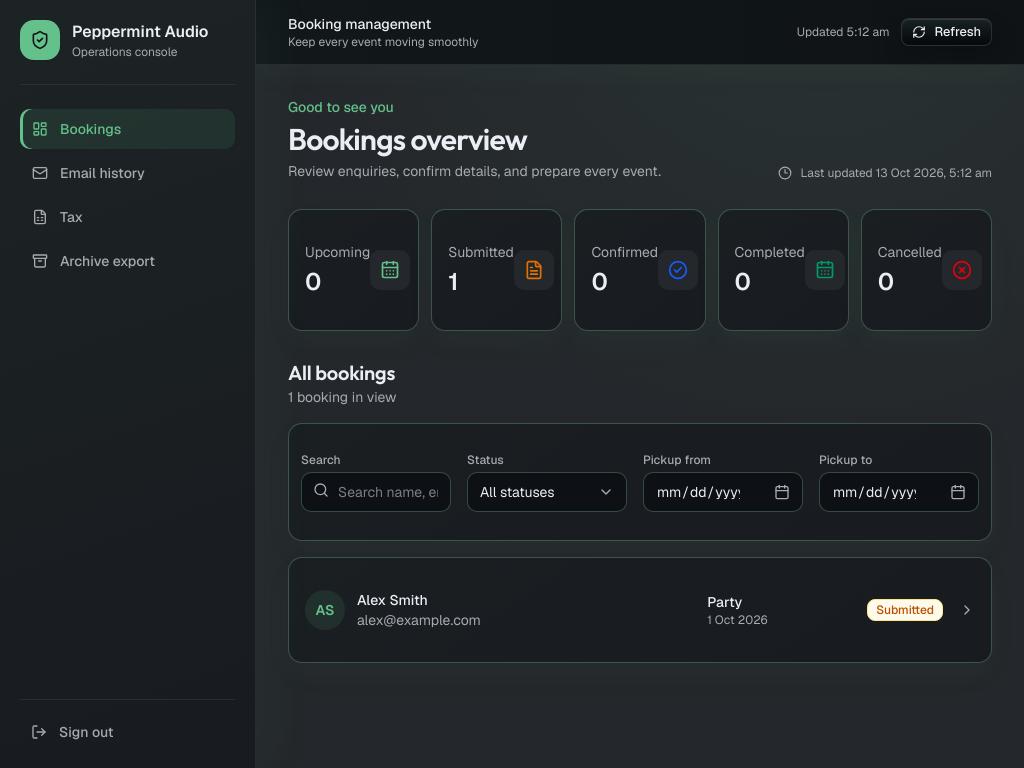
AdminConsole › searches email history by booking and opens the selected booking history
Expected: the text "Alex Smith" is shown, [357,591,428,609]
Click the link "Email history".
click(88, 173)  # box [32,164,145,182]
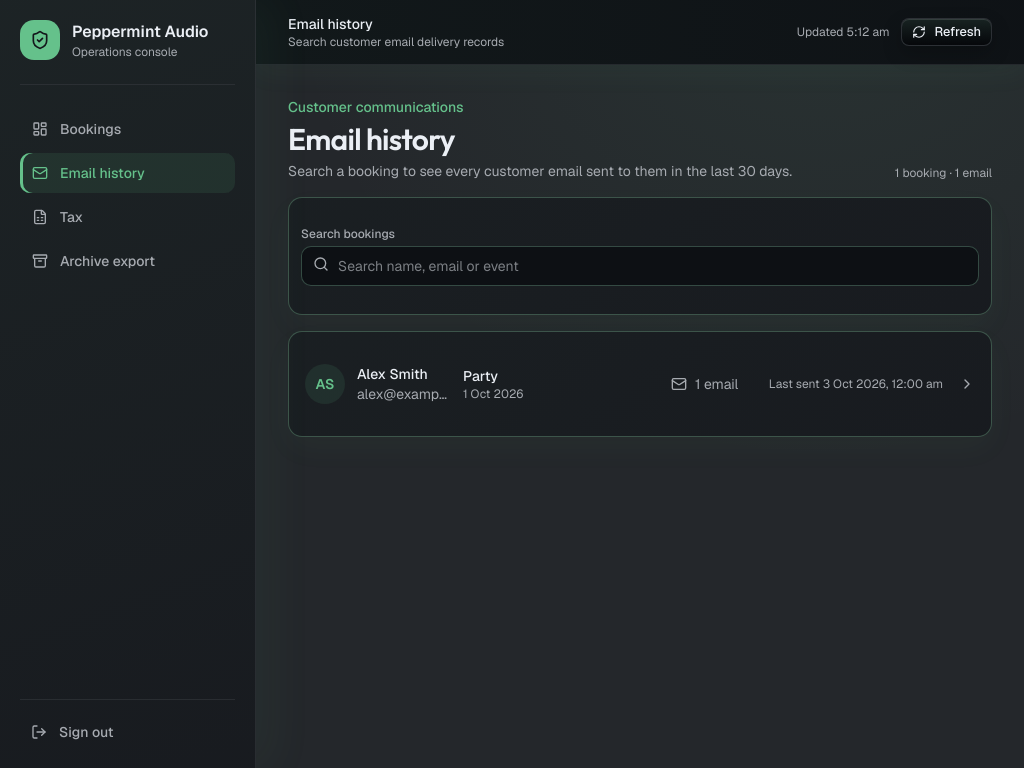
Now the heading "Email history" is shown, box [288,120,455,158]
Now the text "1 email" is shown, box [695,374,738,394]
Type "Alex" into the field named "Search email history".
click(640, 266); type("Alex")  # box [301,246,979,286]
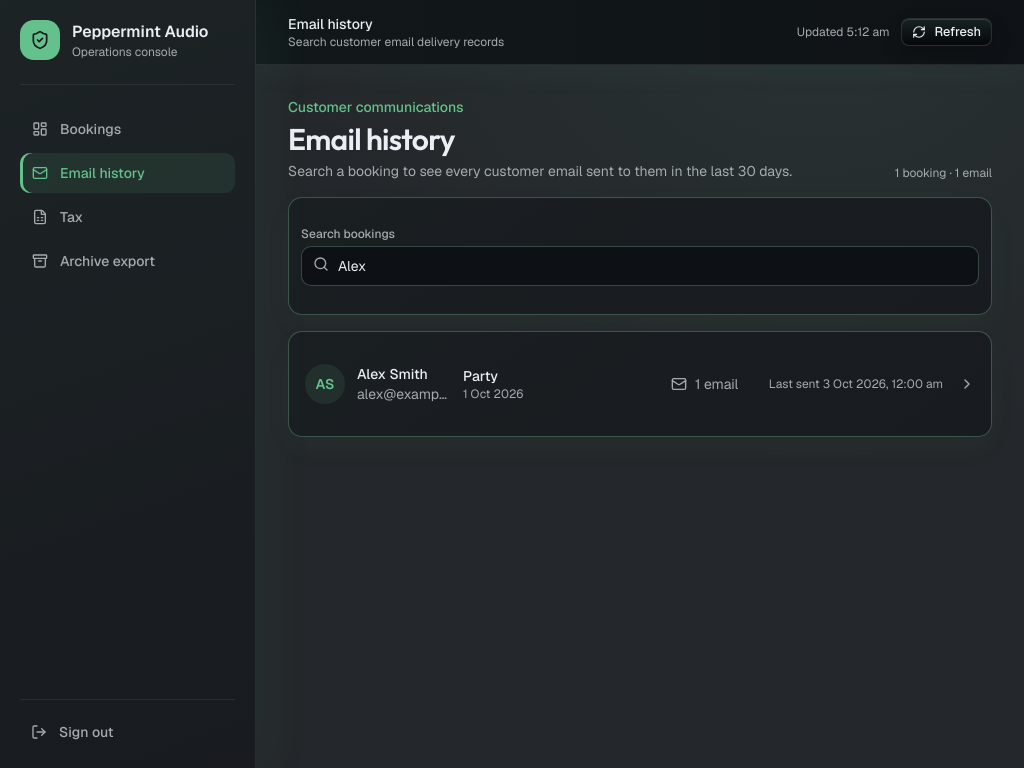
Expected: the text "Alex Smith" is shown, [357,365,428,383]
Click the button "Alex Smith alex@example.com".
click(325, 384)  # box [289,348,991,420]
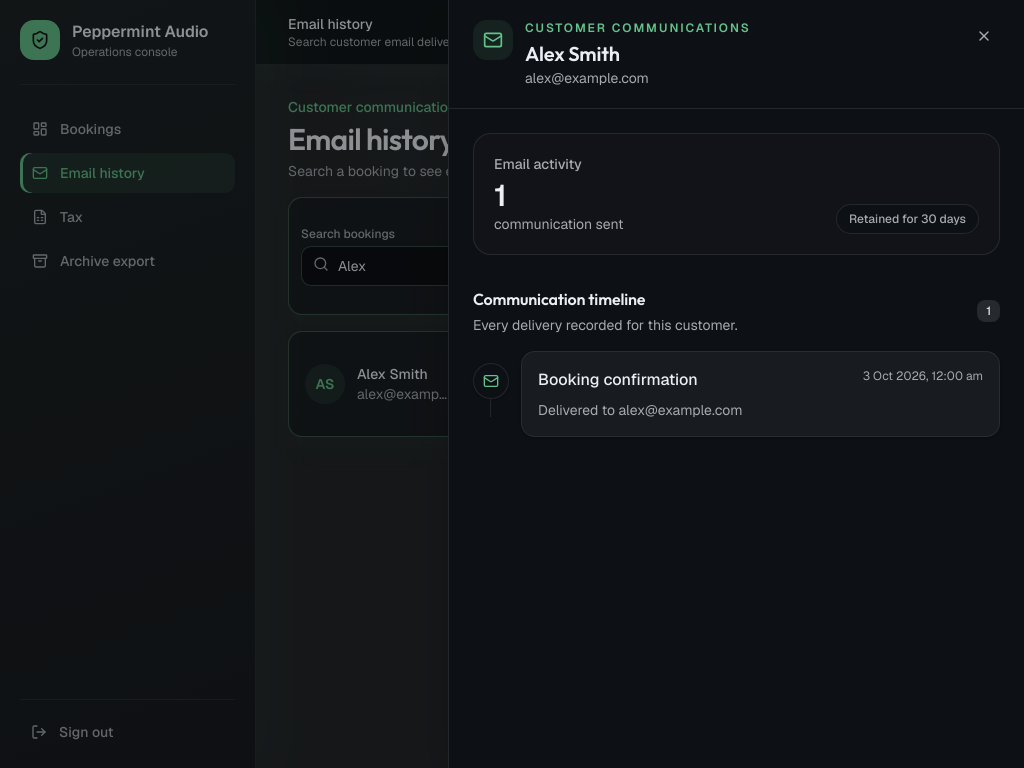
Now the dialog "Alex Smith" is shown, box [448,0,1023,767]
Now the dialog "Alex Smith" shows "Booking confirmation", box [538,369,698,390]
